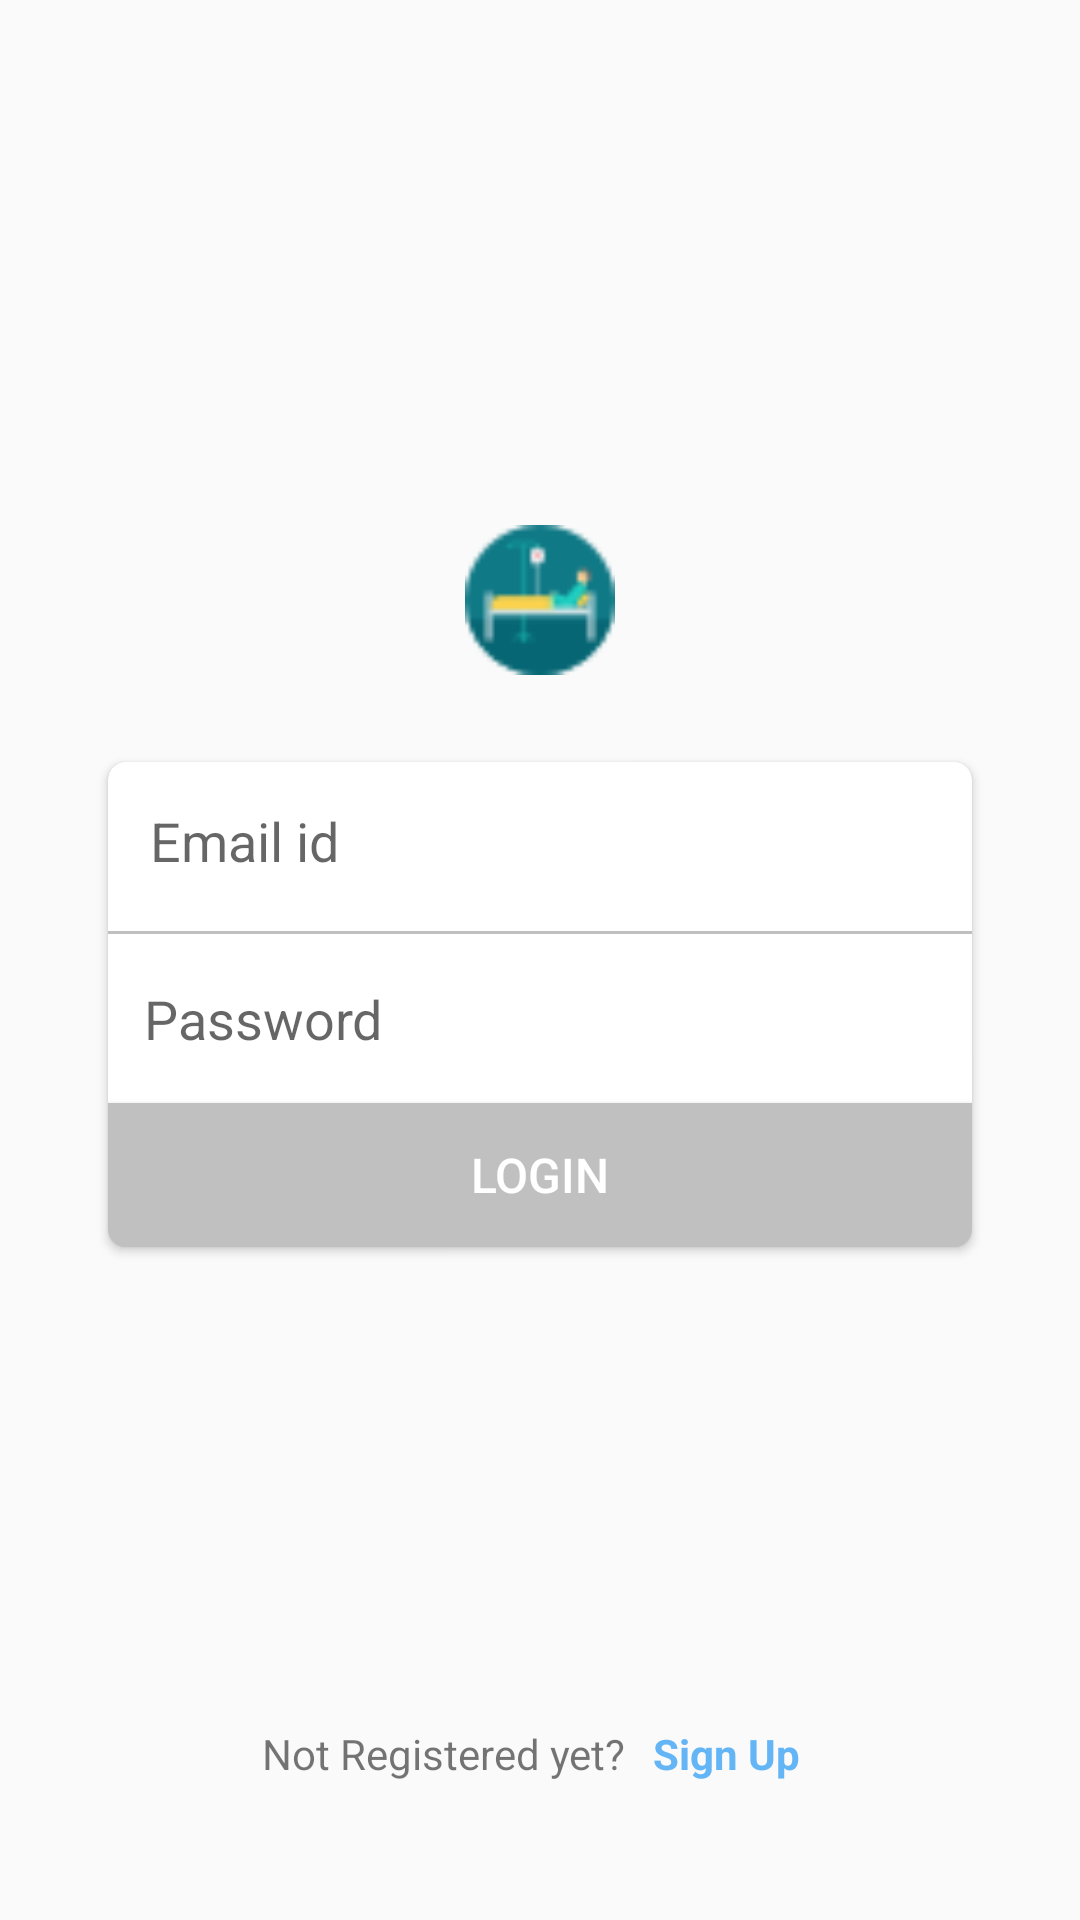

Named icons in this screenshot (1080x1920) and their centers, [x,y]:
patient: [540,600]
